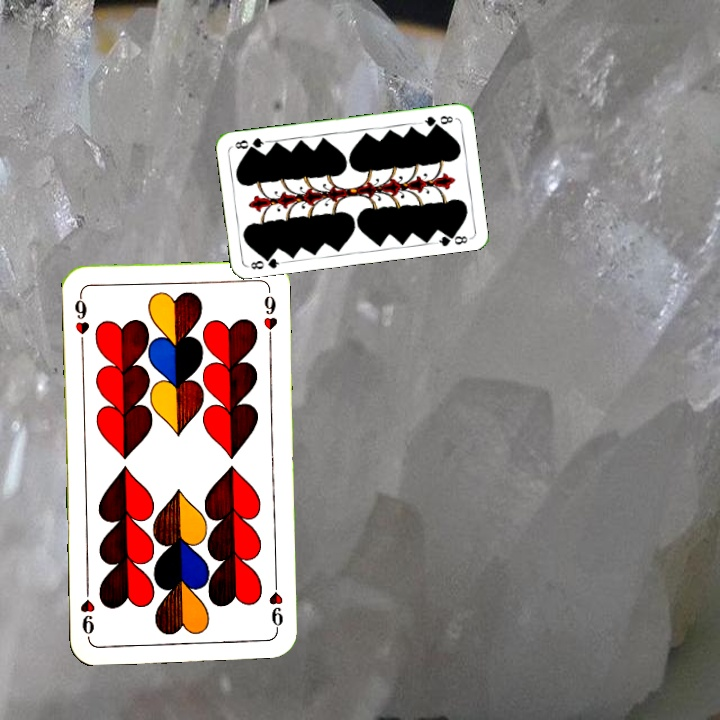G8: (245, 251, 285, 272), (417, 111, 456, 129)
H9: (265, 575, 286, 634), (71, 290, 91, 349)
